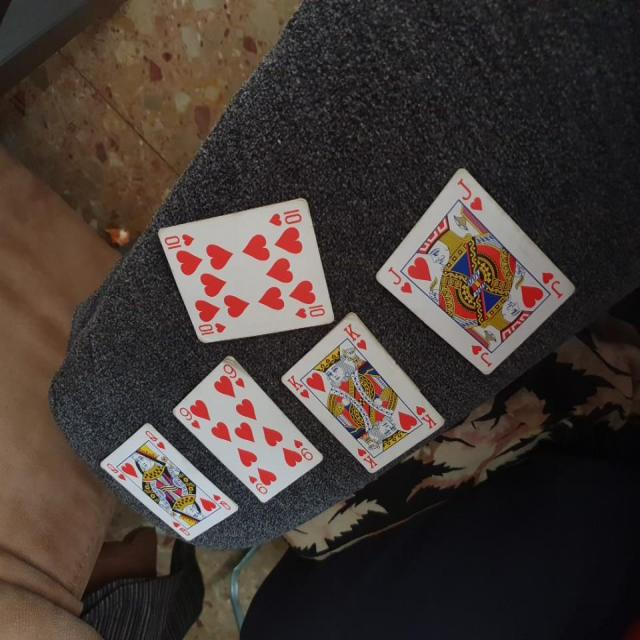10 Hearts: (152, 187, 336, 341)
9 Hearts: (171, 344, 326, 511)
J Hearts: (366, 160, 575, 381)
K Hearts: (279, 310, 447, 474)
Q Hearts: (97, 418, 240, 549)
